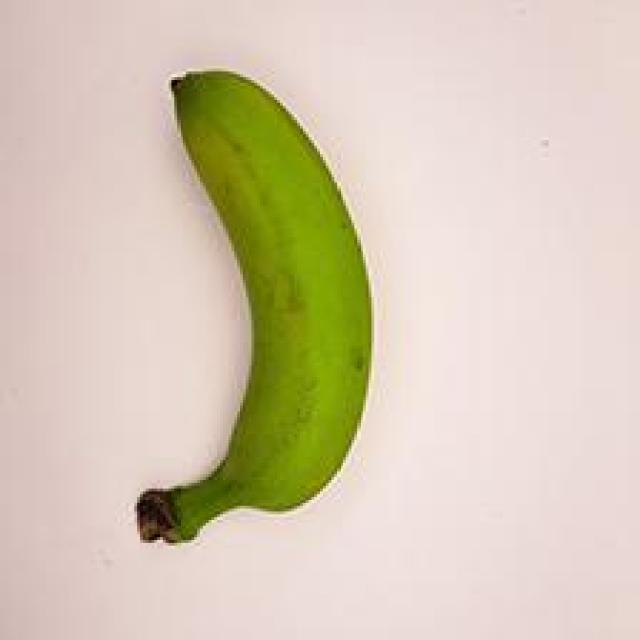unripe: (101, 59, 407, 578)
